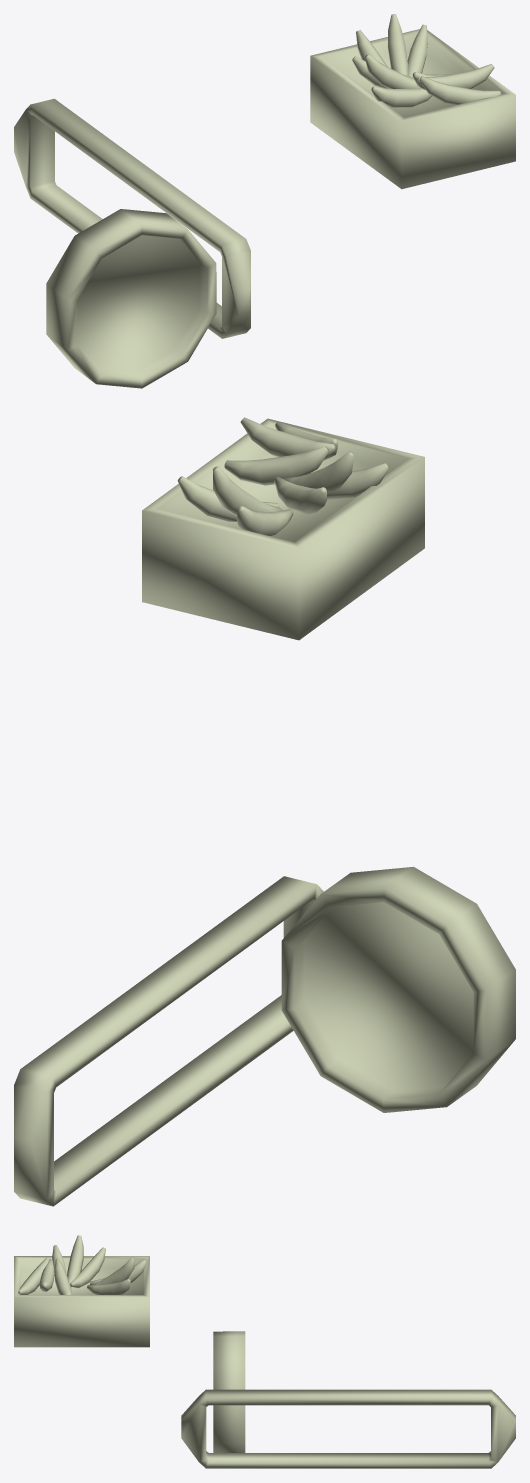
The model's file is bananas.obj.
3 views of the same model, one above another, from view 1: azimuth 30°, elevation 25°; view 2: azimuth 150°, elevation 25°; view 3: azimuth 270°, elevation 25° (orthographic). The views are drawn at different scales.
Visible parts, largest first — view 1: Cube8, Cylinder1, Cube7; view 2: Cube8, Cylinder1, Cube7; view 3: Cube8, Cube7, Cylinder1.
Boxes of the visible parts, left/top/right/bottom form: Cube8: left=310, top=14, right=515, bottom=189; Cylinder1: left=46, top=209, right=216, bottom=388; Cube7: left=14, top=98, right=250, bottom=338; Cube8: left=142, top=417, right=424, bottom=640; Cylinder1: left=281, top=866, right=515, bottom=1112; Cube7: left=14, top=876, right=323, bottom=1206; Cube8: left=14, top=1235, right=149, bottom=1347; Cube7: left=181, top=1389, right=515, bottom=1468; Cylinder1: left=213, top=1331, right=245, bottom=1452.
Size of the model in its own units: 4.02 by 4.48 by 7.46.
